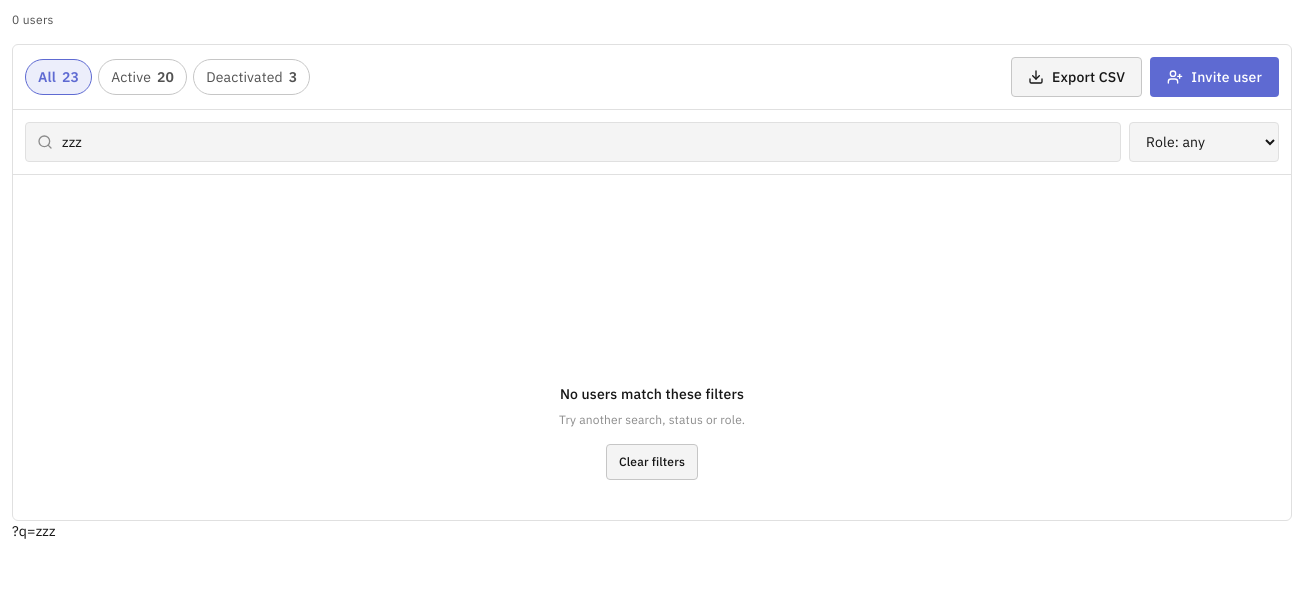
Test case: UserManagement (table) › TC-U10: no match with filters offers Clear filters
Expected: the text "No users match these filters" is shown, 560,384 -> 744,404
Click the button "Clear filters" at [652, 462], box 606,444 -> 698,480
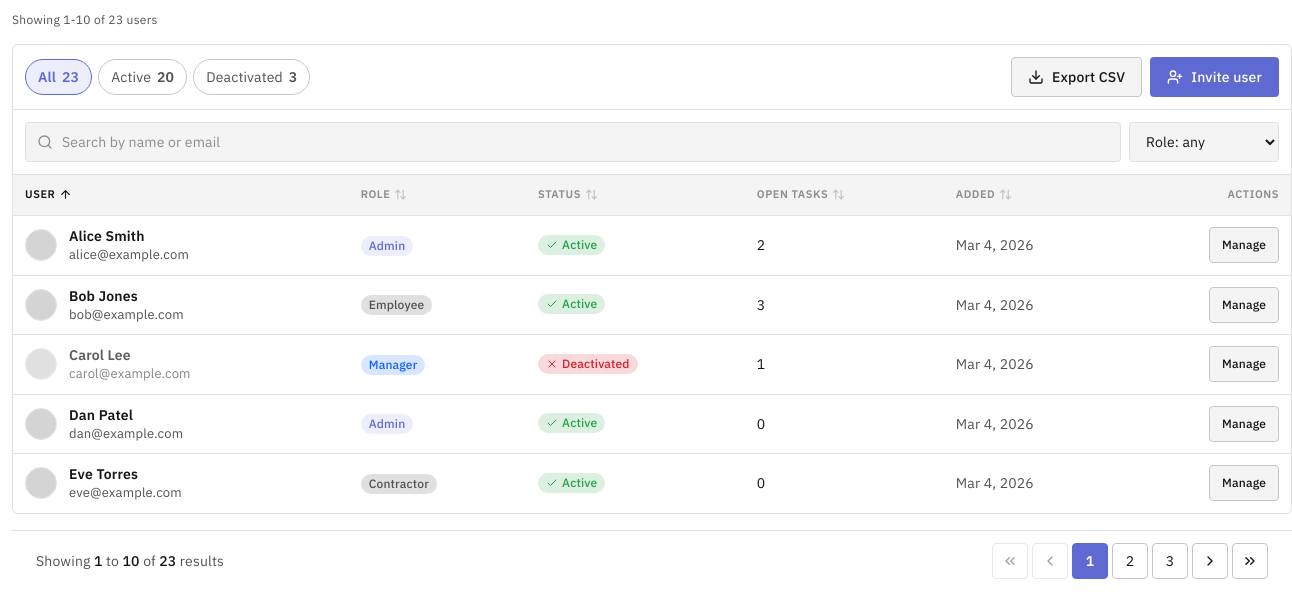
Now the text "Bob Jones" is shown, box 69,286 -> 138,304
